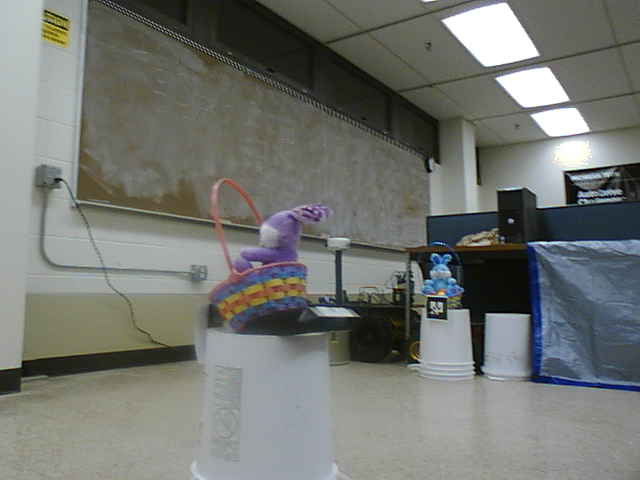bunny: (198, 172, 332, 340), (412, 240, 470, 313)
